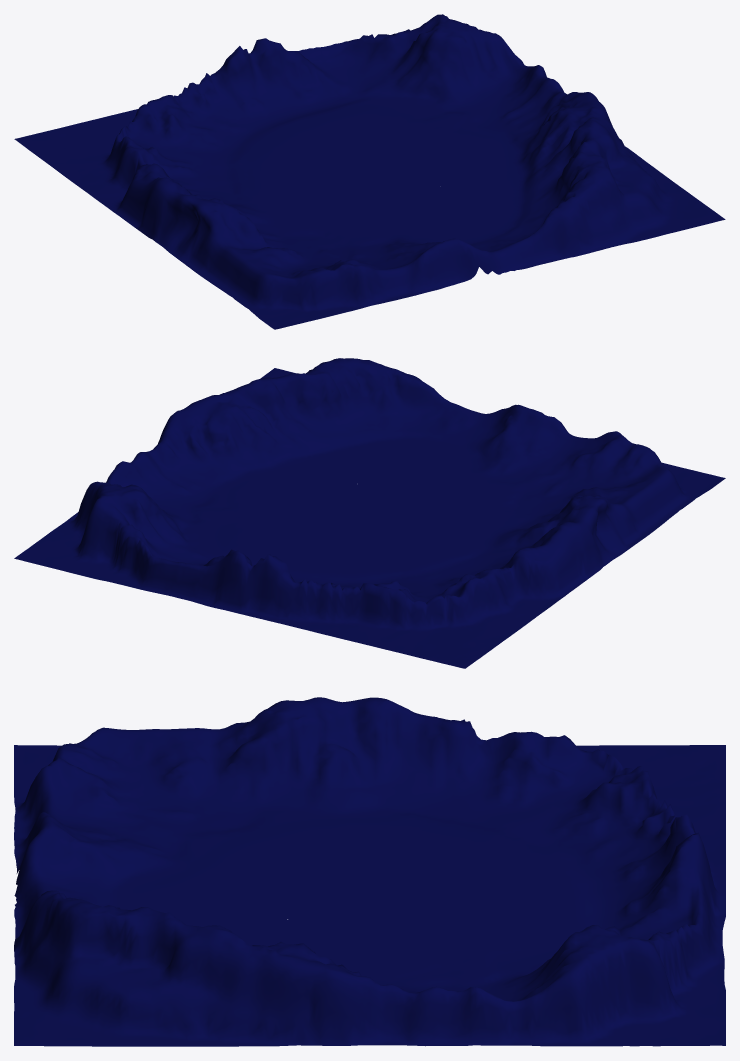
Rendered from ShangGu.obj.
3 renders of one model, top to bottom at view 1: azimuth 30°, elevation 25°; view 2: azimuth 150°, elevation 25°; view 3: azimuth 270°, elevation 25°, orthographic. The views are drawn at different scales.
Parts seen in each view (by area): view 1: shangu; view 2: shangu; view 3: shangu.
Boxes of the visible parts, left/top/right/bottom form: shangu: left=14, top=14, right=725, bottom=329; shangu: left=14, top=358, right=725, bottom=668; shangu: left=14, top=697, right=725, bottom=1046.
Bounding box in the file's own units: 1000 × 122 × 1000.
